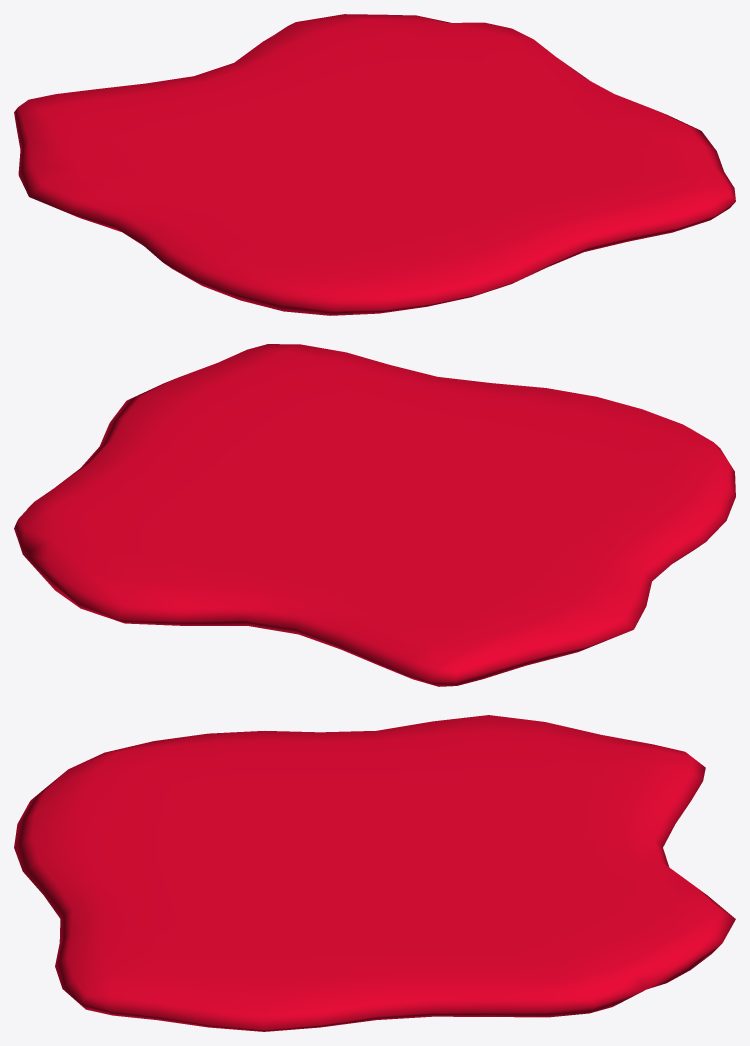
File: karamel.fbx
3 renders of one model, top to bottom at view 1: azimuth 30°, elevation 25°; view 2: azimuth 150°, elevation 25°; view 3: azimuth 270°, elevation 25°, orthographic. The views are drawn at different scales.
Parts seen in each view (by area): view 1: caramel; view 2: caramel; view 3: caramel.
Boxes of the visible parts, <box> form: caramel: <box>14,14,735,315</box>; caramel: <box>14,344,735,686</box>; caramel: <box>14,715,735,1031</box>.
Bounding box in the file's own units: 220 × 10 × 214.
